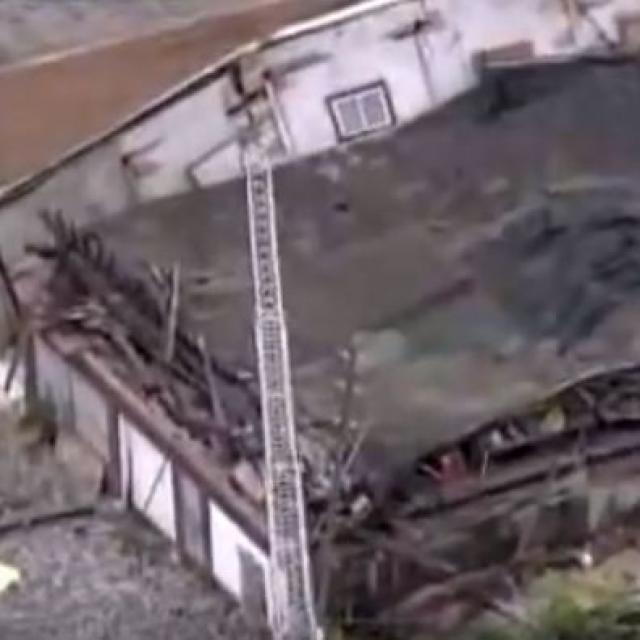collapsed_building: (32, 189, 638, 592)
